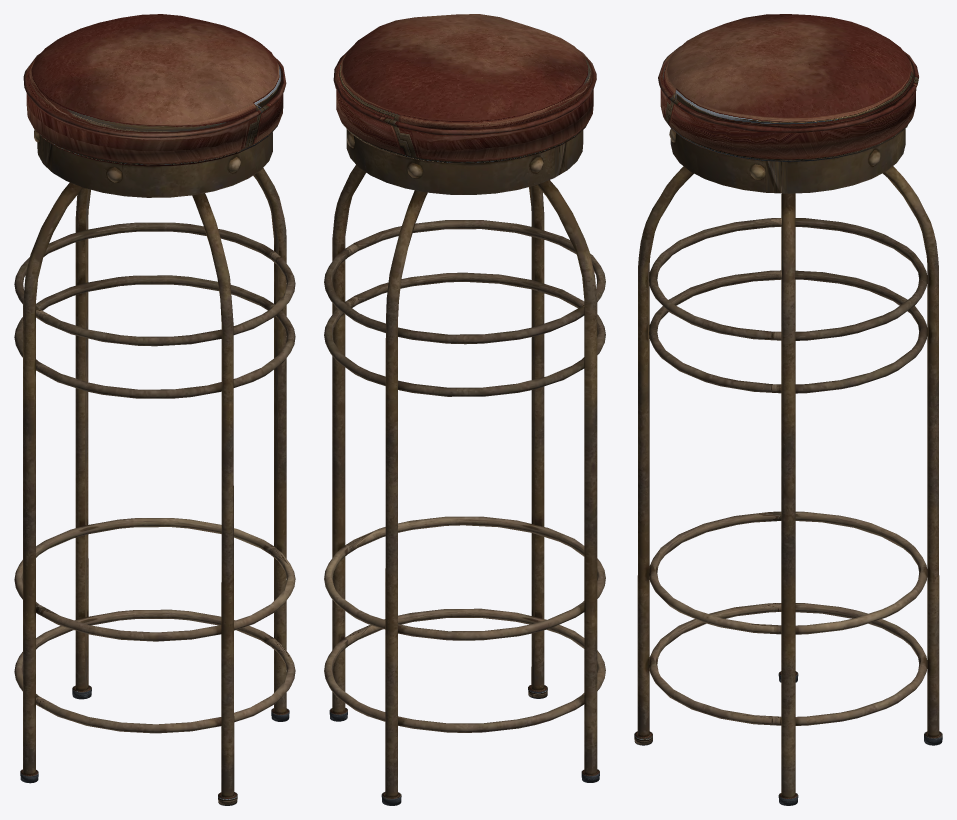
File: metal_stool_01.glb
3 renders of one model, left to right at view 1: azimuth 30°, elevation 25°; view 2: azimuth 150°, elevation 25°; view 3: azimuth 270°, elevation 25°, orthographic.
Visible parts, largest first — view 1: metal_stool_01; view 2: metal_stool_01; view 3: metal_stool_01.
Part boxes in pixels (x1,y1,x2,y2): metal_stool_01: (14, 14, 295, 805); metal_stool_01: (324, 14, 605, 805); metal_stool_01: (634, 14, 942, 805).
Bounding box in the file's own units: 0.352 × 0.8823 × 0.3546.
1 material, 1 textured.
